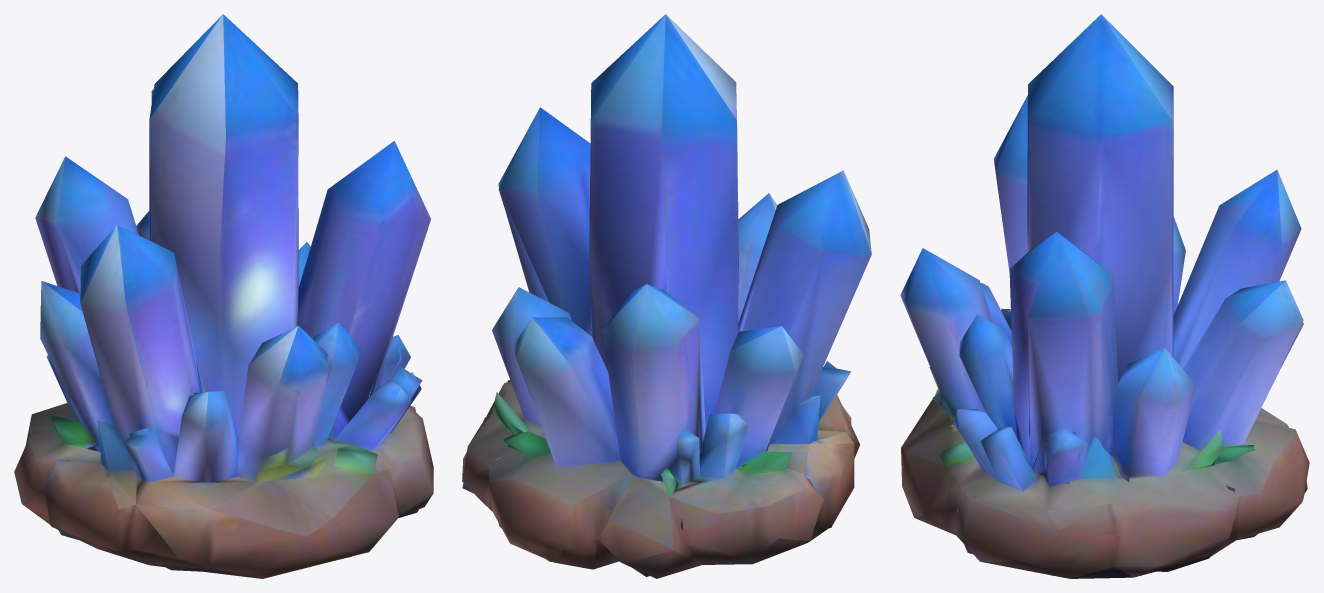
Rendered from lg-crystal-spire.glb.
The picture shows the model from 3 angles, left to right: view 1: azimuth 30°, elevation 25°; view 2: azimuth 150°, elevation 25°; view 3: azimuth 270°, elevation 25°; orthographic projection.
Visible parts, largest first — view 1: geometry_0; view 2: geometry_0; view 3: geometry_0.
Part boxes in pixels (box(x1,y1,x2,y2)): geometry_0: box(14, 14, 433, 578); geometry_0: box(462, 14, 871, 578); geometry_0: box(900, 14, 1309, 578).
Size of the model in its own units: 0.7693 by 1 by 0.7677.
1 material, 1 textured.
